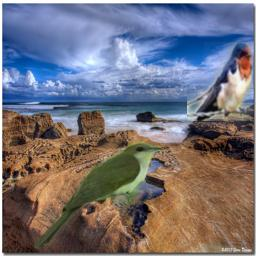Cuckoo: (34, 142, 164, 250)
Swallow: (187, 42, 253, 121)
